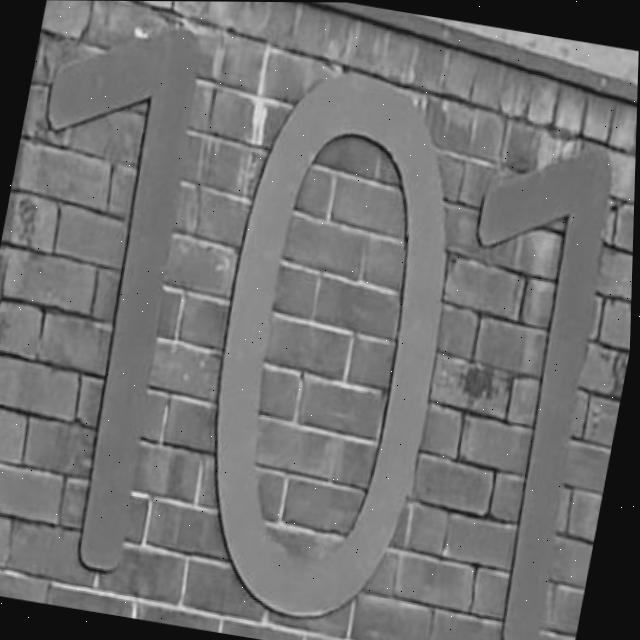character: (167, 50, 495, 640), (0, 2, 243, 589), (395, 122, 636, 640)
